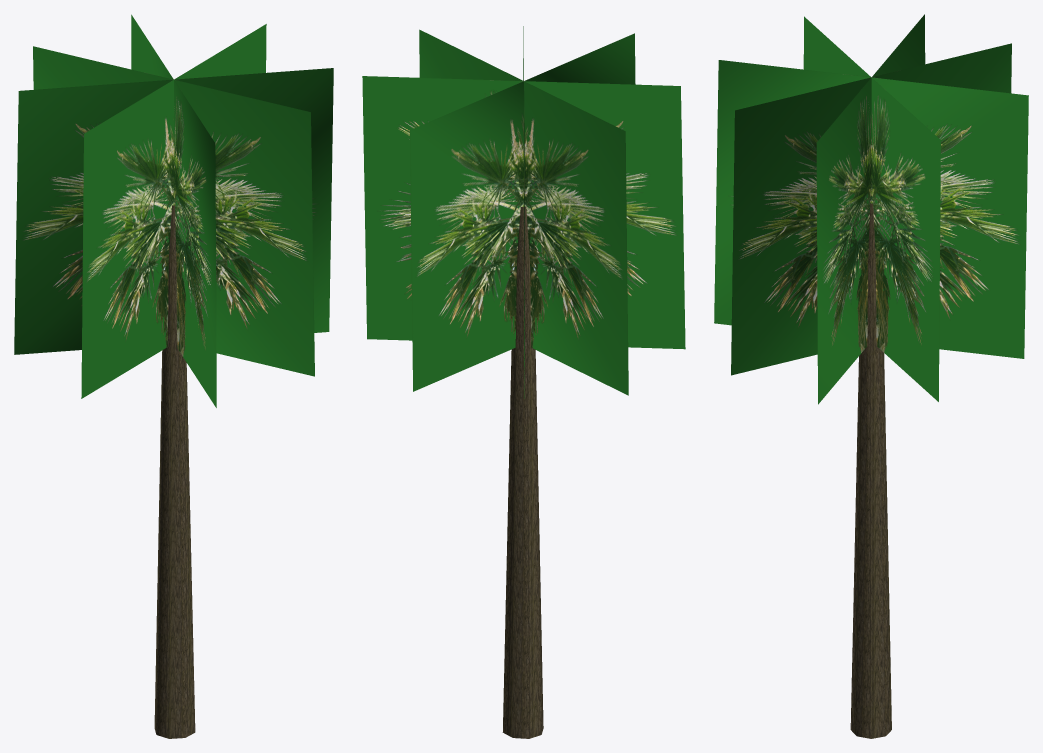
Rendered from Tree04.fbx.
3 views of the same model, side by side, from view 1: azimuth 30°, elevation 25°; view 2: azimuth 150°, elevation 25°; view 3: azimuth 270°, elevation 25° (orthographic).
Parts seen in each view (by area): view 1: U3DMesh; view 2: U3DMesh; view 3: U3DMesh.
Part boxes in pixels (x1,y1,x2,y2): U3DMesh: [14, 14, 333, 738]; U3DMesh: [362, 26, 685, 738]; U3DMesh: [714, 14, 1028, 738].
Size of the model in its own units: 15.65 by 36.79 by 16.08.
